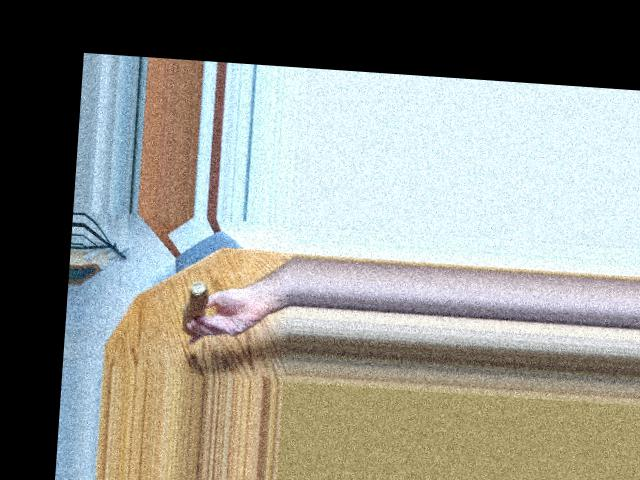sweet_potato: (180, 287, 201, 336)
